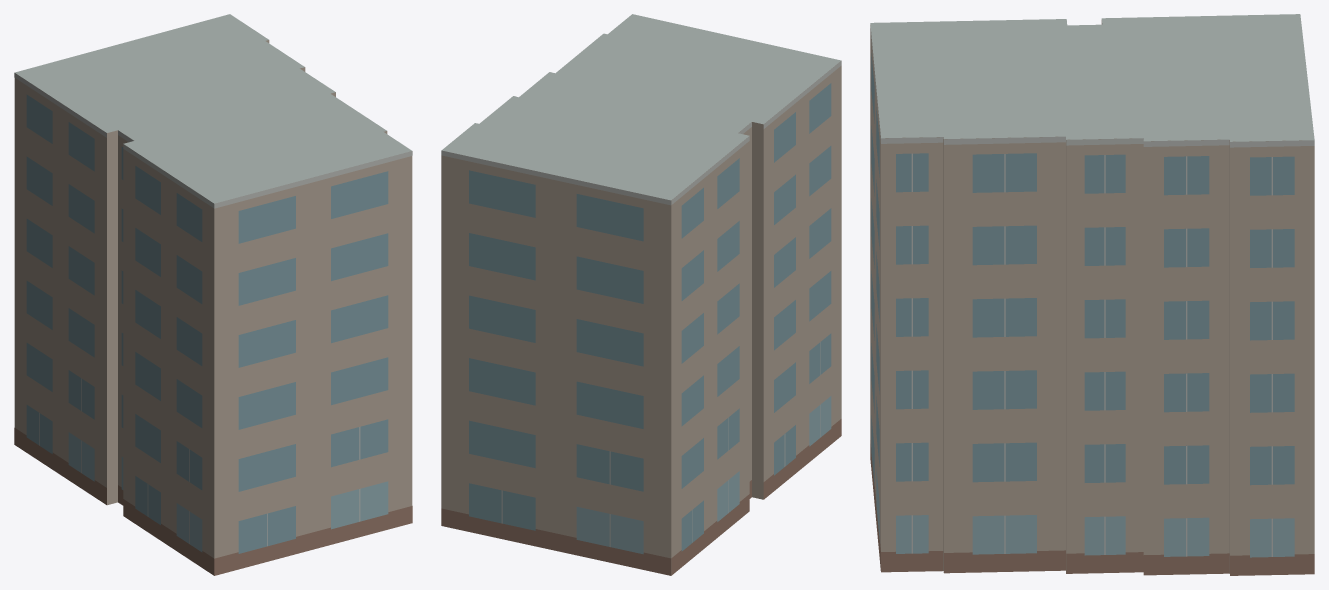
Rendered from survey-upis-32701778.glb.
3 views of the same model, side by side, from view 1: azimuth 30°, elevation 25°; view 2: azimuth 150°, elevation 25°; view 3: azimuth 270°, elevation 25° (orthographic). The views are drawn at different scales.
Visible parts, largest first — view 1: survey-upis-32701778.tmp; view 2: survey-upis-32701778.tmp; view 3: survey-upis-32701778.tmp.
Part boxes in pixels (x1,y1,x2,y2): survey-upis-32701778.tmp: (14, 14, 412, 575); survey-upis-32701778.tmp: (441, 14, 841, 575); survey-upis-32701778.tmp: (870, 14, 1314, 575).
Bounding box in the file's own units: 11.69 × 18.5 × 17.18.
